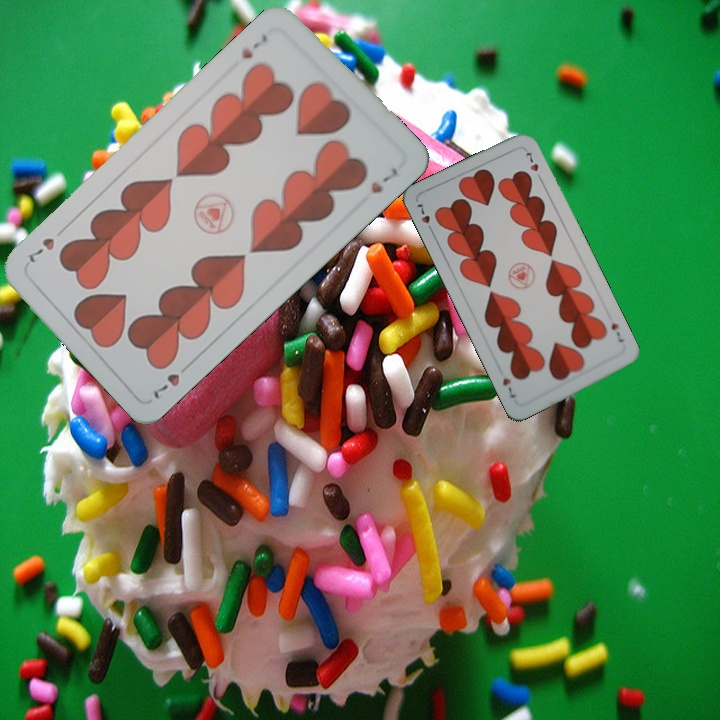H7: (149, 357, 195, 402), (237, 30, 271, 62), (412, 200, 437, 236), (607, 319, 626, 345)
